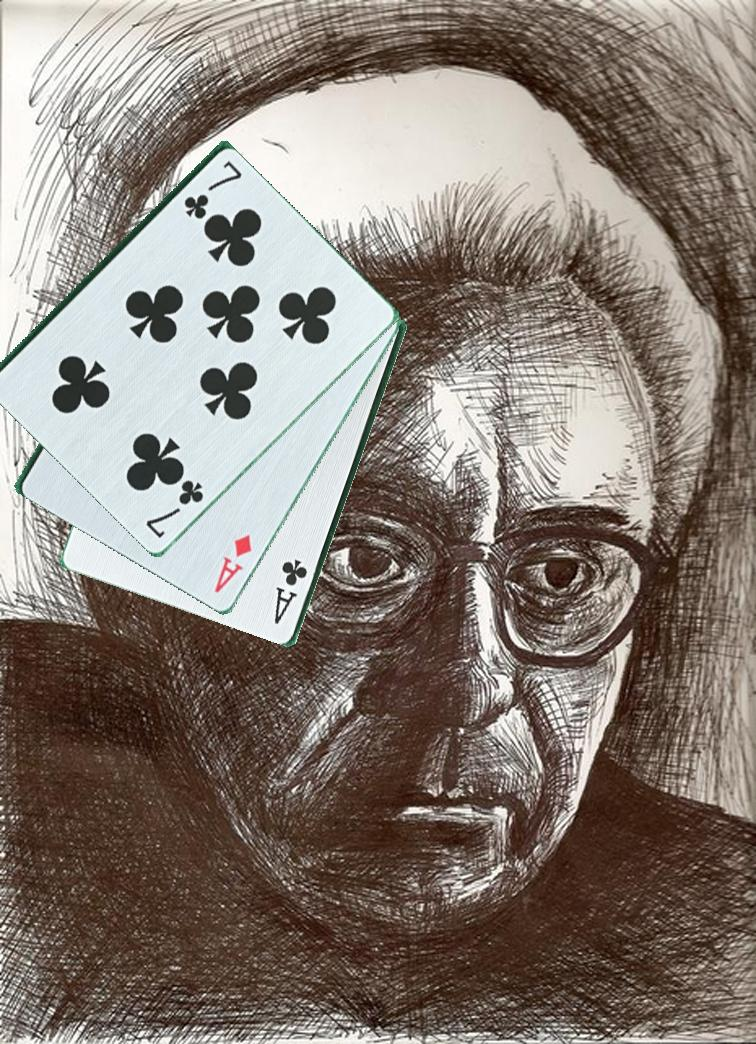7c: (141, 469, 207, 542), (180, 157, 243, 221)
ac: (270, 556, 311, 629)
ad: (210, 531, 255, 597)
